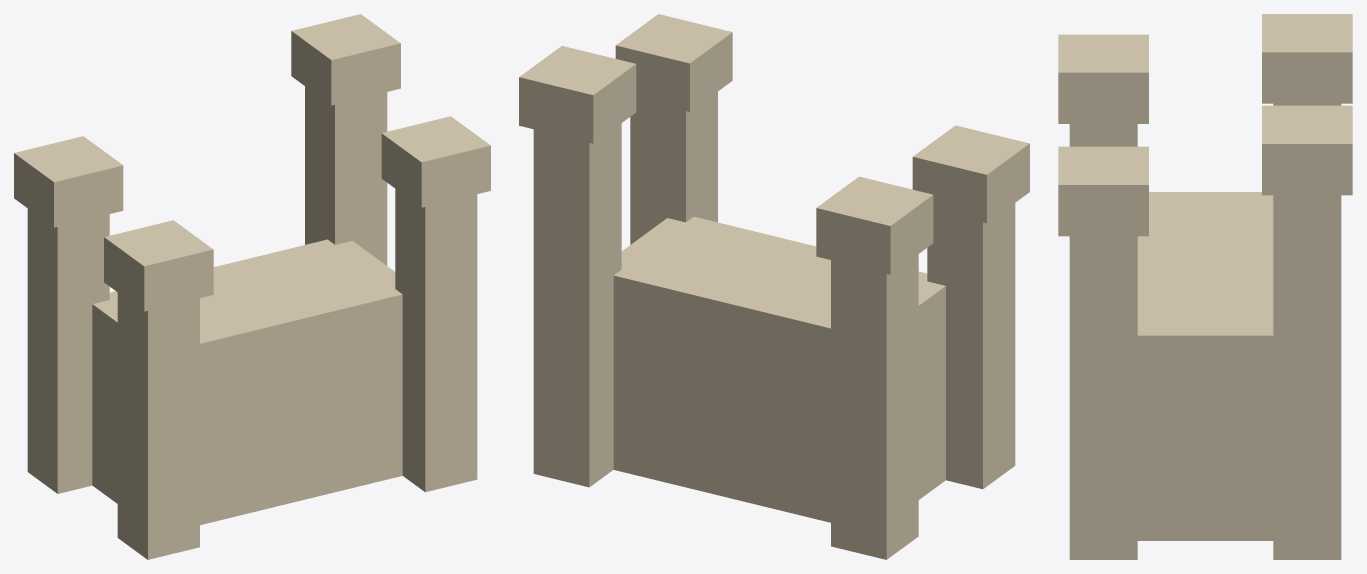
Rendered from neuschwanstein.glb.
The picture shows the model from 3 angles, left to right: view 1: azimuth 30°, elevation 25°; view 2: azimuth 150°, elevation 25°; view 3: azimuth 270°, elevation 25°; orthographic projection. The views are drawn at different scales.
Size of the model in its own units: 4 by 4.1 by 2.6.
